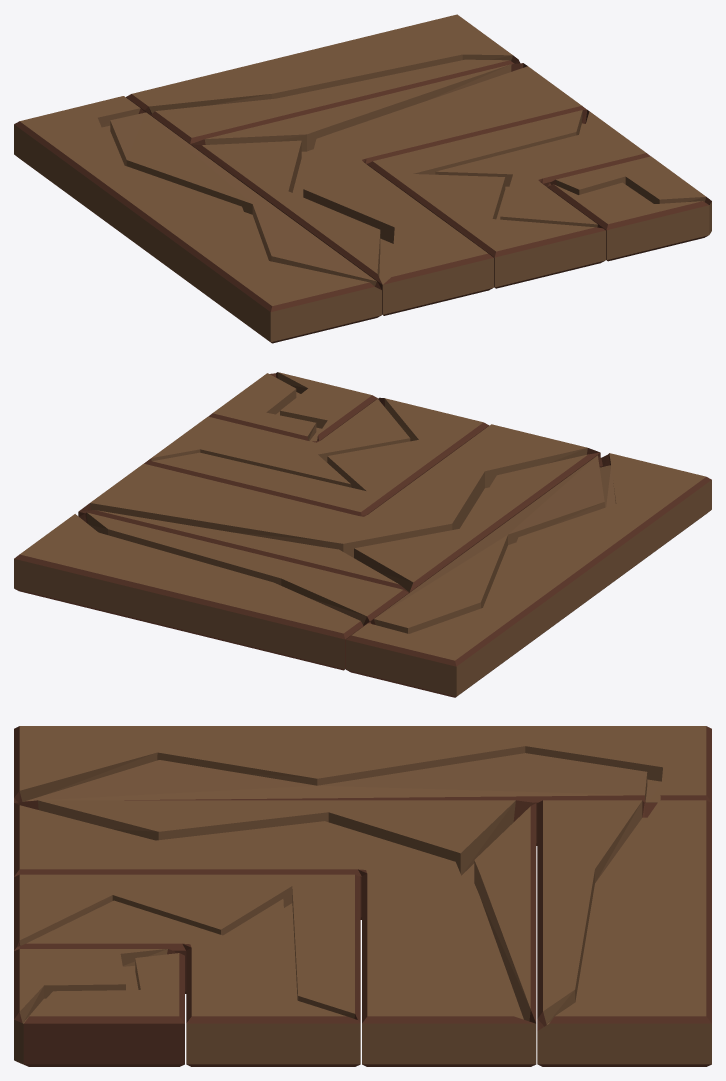
Rendered from Piso De madera patron Roto.fbx.
3 views of the same model, one above another, from view 1: azimuth 30°, elevation 25°; view 2: azimuth 150°, elevation 25°; view 3: azimuth 270°, elevation 25° (orthographic). The views are drawn at different scales.
Parts seen in each view (by area): view 1: polySurface356; view 2: polySurface356; view 3: polySurface356.
Boxes of the visible parts, left/top/right/bottom form: polySurface356: left=14, top=14, right=711, bottom=343; polySurface356: left=14, top=372, right=711, bottom=697; polySurface356: left=14, top=726, right=711, bottom=1066.
Size of the model in its own units: 3 by 0.2393 by 3.
